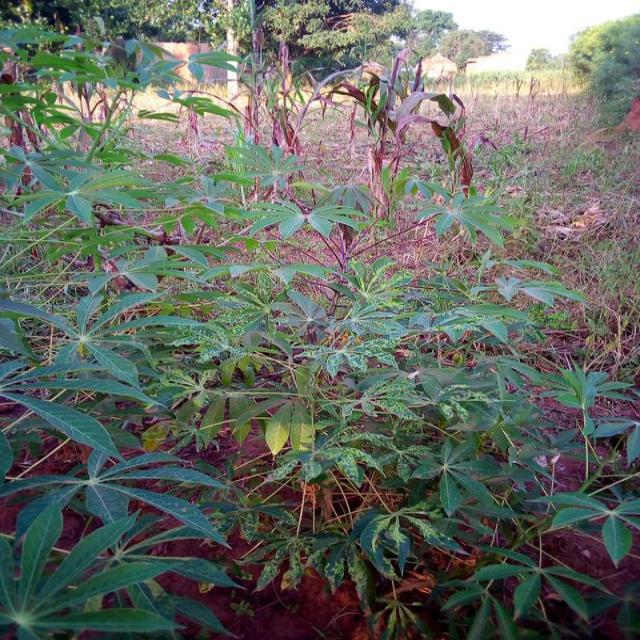Mosaico: (273, 427, 398, 499), (355, 502, 465, 572), (153, 351, 249, 412), (303, 338, 411, 387), (238, 525, 323, 587), (200, 484, 287, 538), (422, 363, 477, 431), (372, 590, 429, 639), (145, 421, 226, 453)
